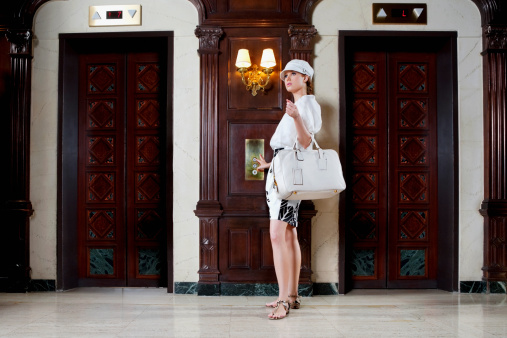em pe: (254, 59, 329, 324)
